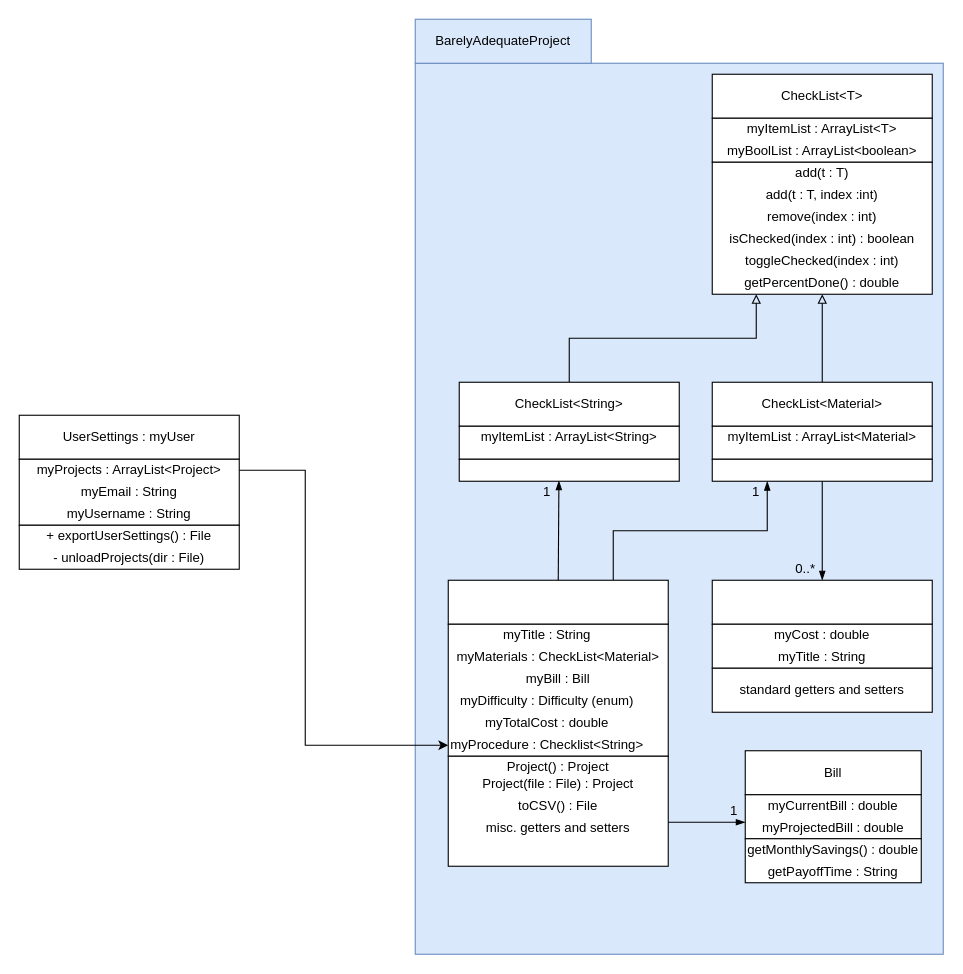
Some shapes in this 963 by 974 pixel diagram are drawn without their labels. Each missing label, with the box of its shape:
Material: (711, 579, 932, 624)
Project: (447, 579, 668, 624)
